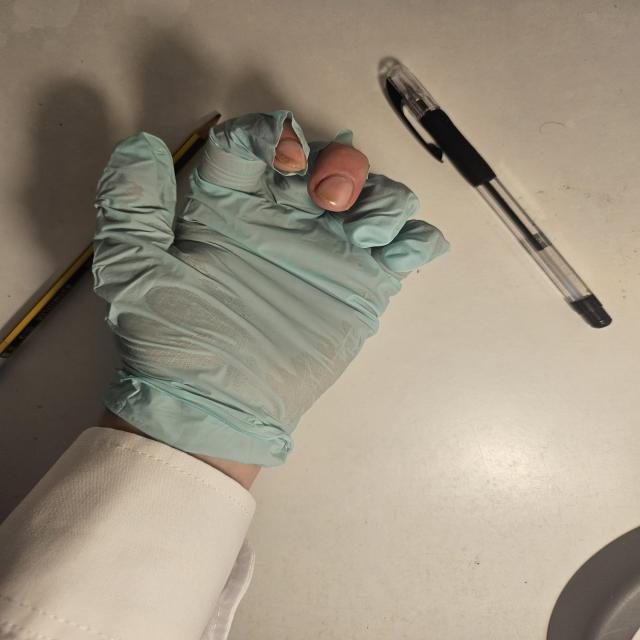gloves_damaged: (91, 98, 451, 477)
